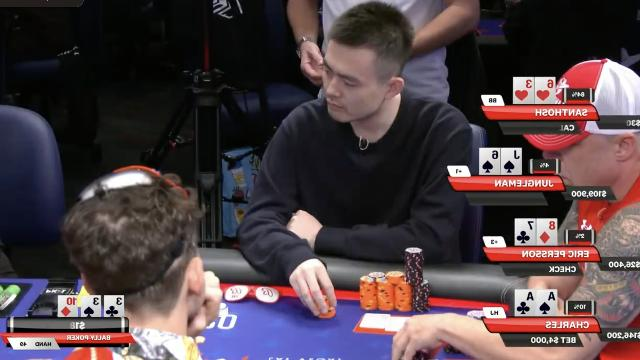10D: (58, 296, 76, 318)
3C: (105, 296, 124, 318)
3H: (514, 79, 532, 103)
3S: (82, 296, 100, 318)
6H: (536, 78, 554, 102)
6S: (480, 150, 498, 174)
7C: (516, 220, 534, 244)
8D: (538, 220, 556, 244)
AC: (516, 290, 534, 316)
AS: (538, 290, 556, 316)
JS: (502, 150, 520, 174)
